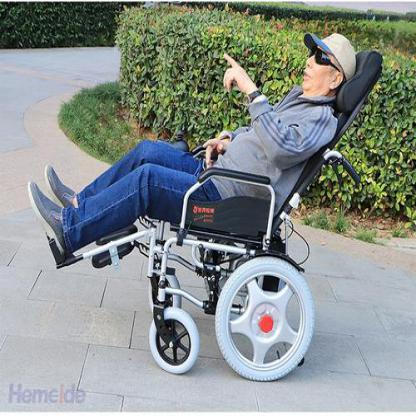wheelchair: (32, 31, 380, 382)
